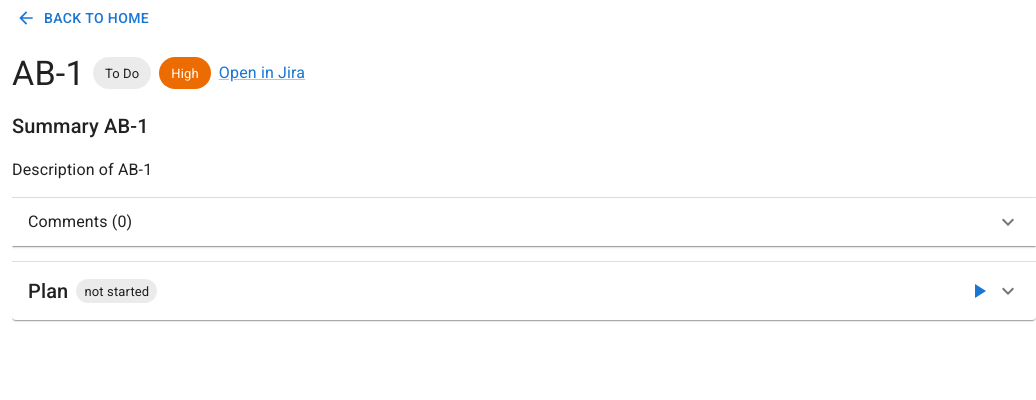
Test: shows card details and a Generate button when there is no plan
The image size is (1036, 400).
Expected: the heading "AB-1" is shown, [12,52,85,94]
Expected: the heading "Summary AB-1" is shown, [12,114,149,138]
Click the button "Plan not started" at (48, 291), box [28,274,1020,308]
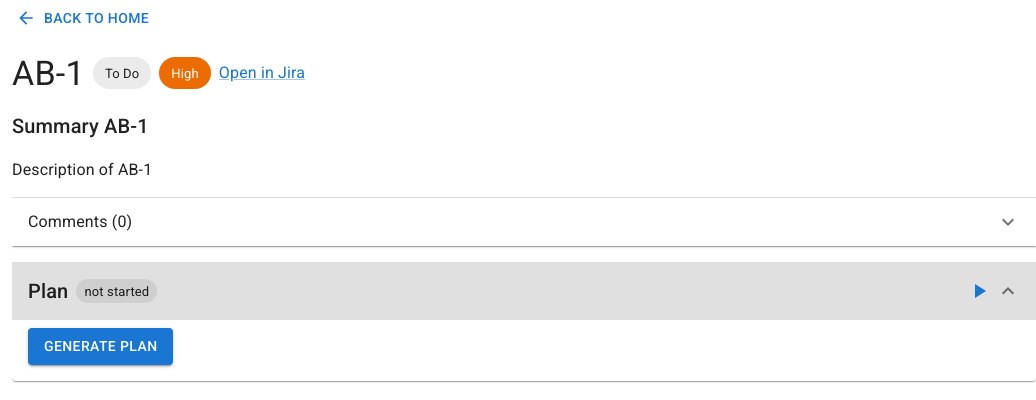
Now the button "Generate plan" is shown, box [28,328,174,365]
